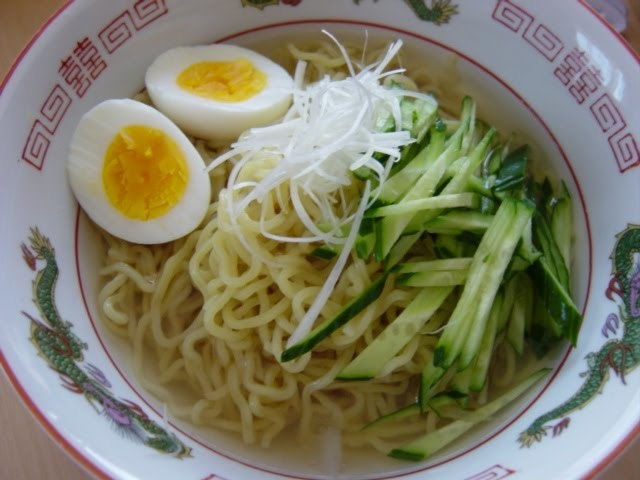background: (66, 21, 582, 346)
